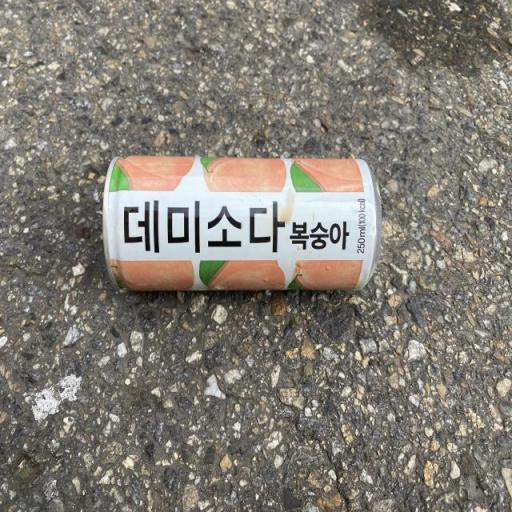metal: (72, 113, 396, 333)
